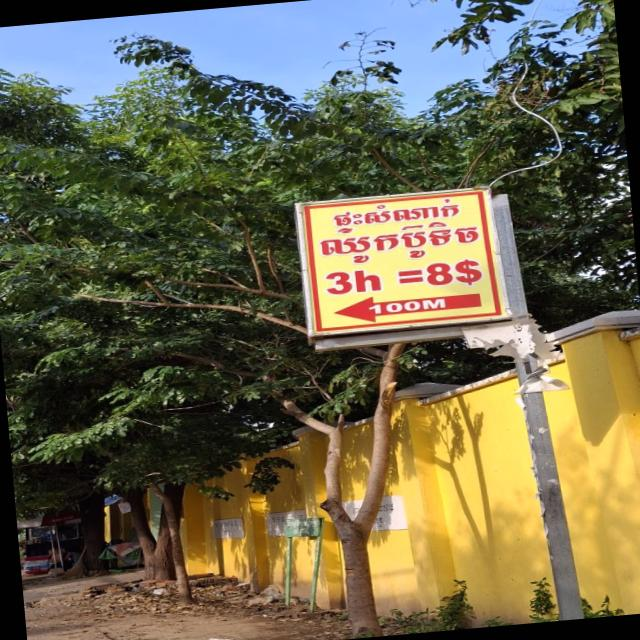Yolov11_80vkh: (314, 216, 487, 269), (315, 194, 465, 235)
